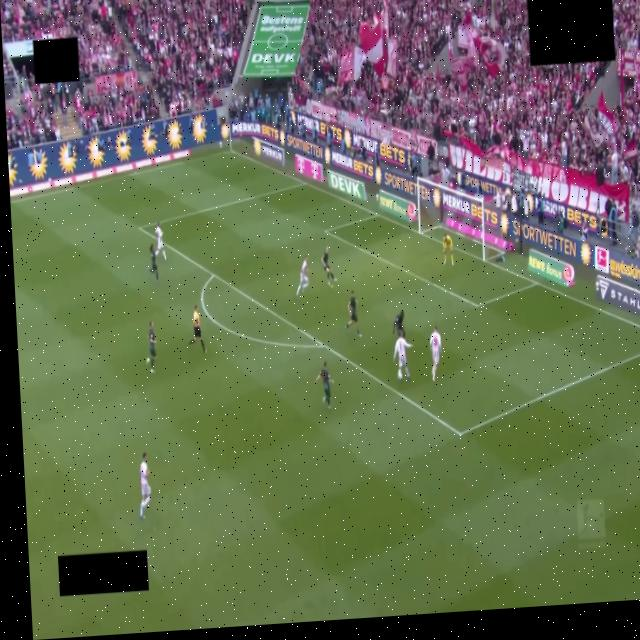ball: (398, 371, 402, 380)
player: (394, 333, 411, 380), (316, 362, 333, 409), (345, 291, 361, 336), (140, 452, 150, 519), (430, 326, 441, 380), (322, 247, 336, 286), (296, 256, 309, 298), (147, 321, 156, 373), (155, 222, 166, 261), (147, 245, 158, 280), (443, 234, 453, 266), (393, 310, 405, 336)
referee: (188, 305, 206, 354)
